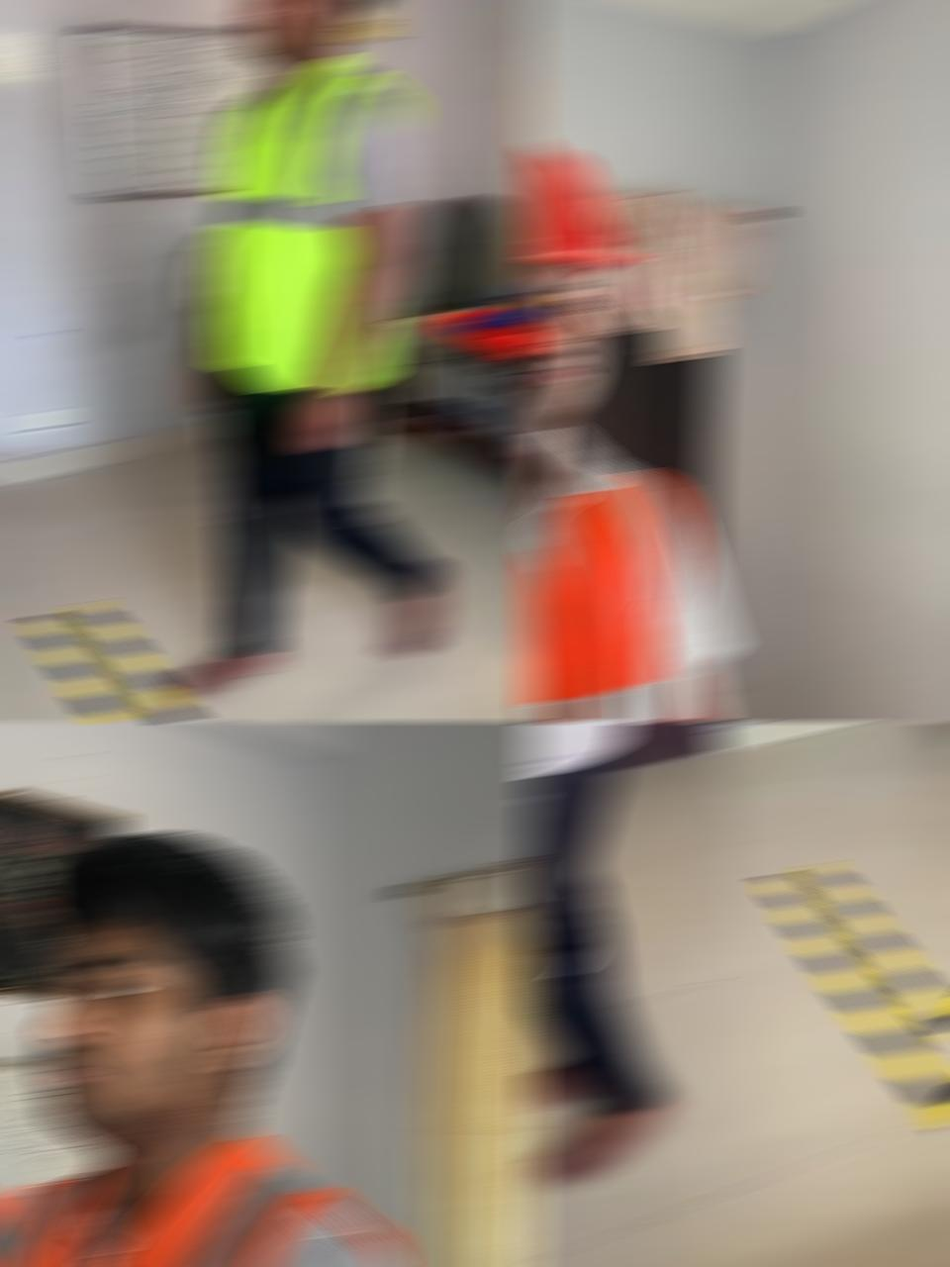BorderLine: (758, 862, 950, 1175), (25, 601, 336, 721)
Helmet: (523, 135, 644, 287)
No_Helmet: (34, 830, 298, 1148), (238, 1, 361, 65)
Person: (169, 1, 450, 698), (0, 831, 434, 1266), (523, 135, 751, 721), (523, 723, 676, 1189)
Vest: (207, 54, 420, 393)
